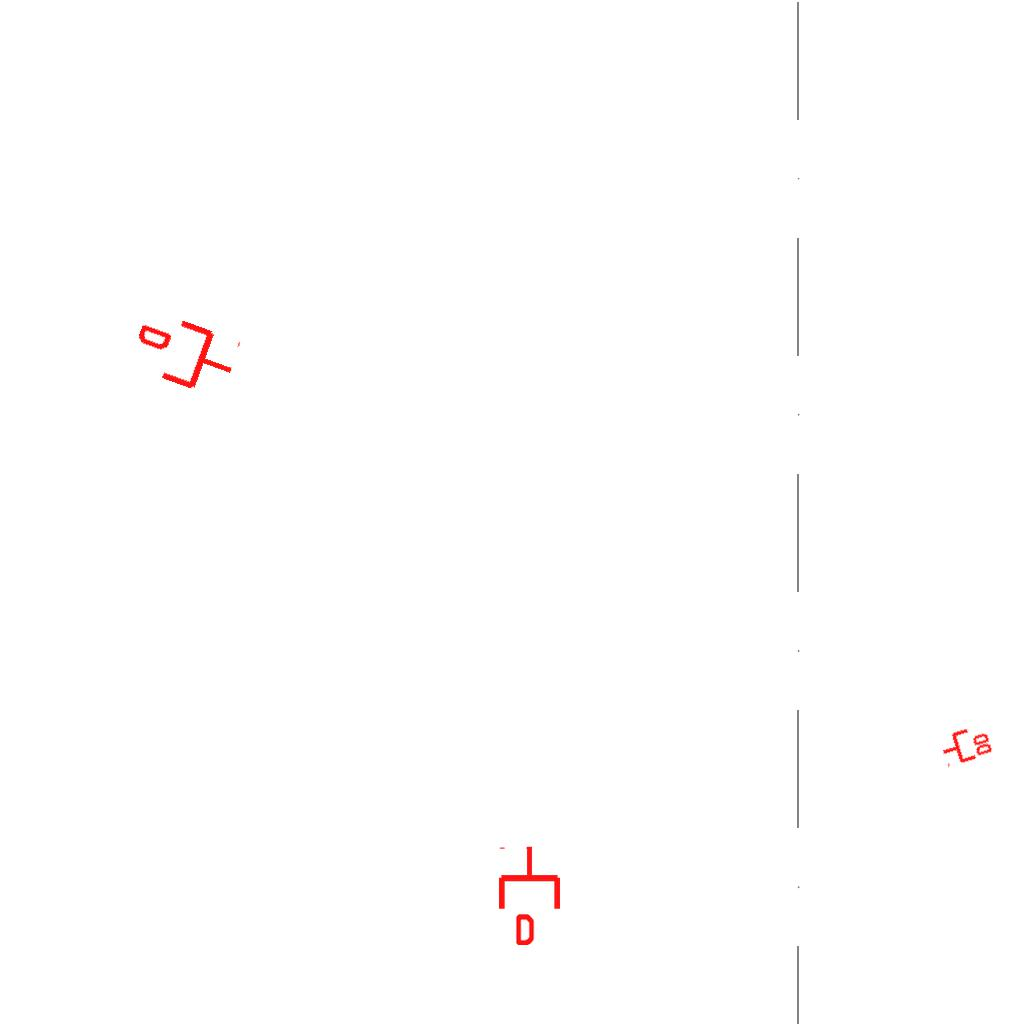Datenanschluss_einfach: (126, 304, 245, 404), (495, 845, 564, 945)
Datenanschluss_zweifach: (936, 720, 996, 769)
